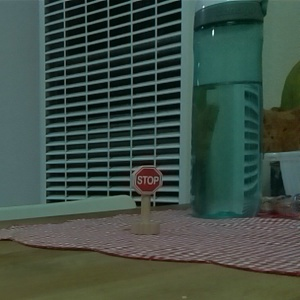stop sign: (128, 164, 165, 236)
